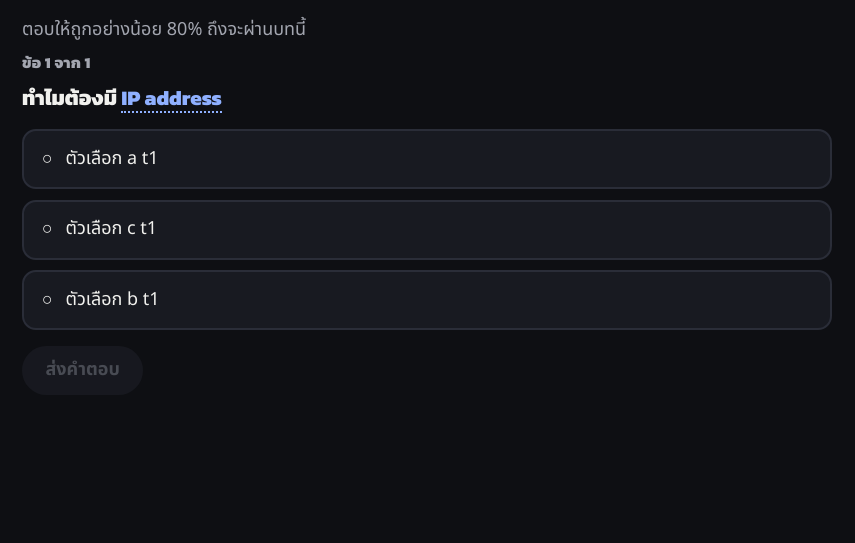
Scenario: QuizView termIds › คำศัพท์ในคำถาม th และคำอธิบาย กดดูความหมายได้
This screenshot has width=855, height=543.
Expected: the button "IP address" is shown, [121, 85, 222, 113]
Click the button "○ ตัวเลือก b t1": (113, 299) [22, 270, 832, 330]
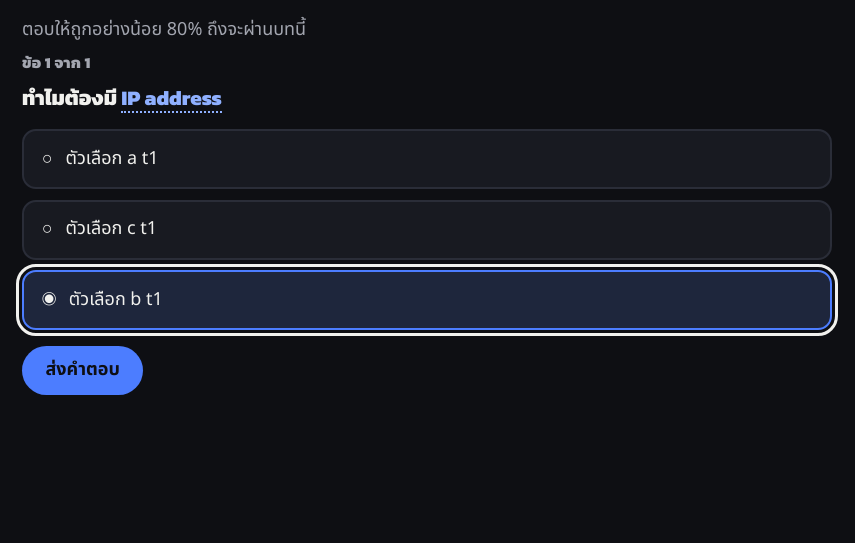
Click the button "ส่งคำตอบ": (83, 371) [22, 346, 143, 395]
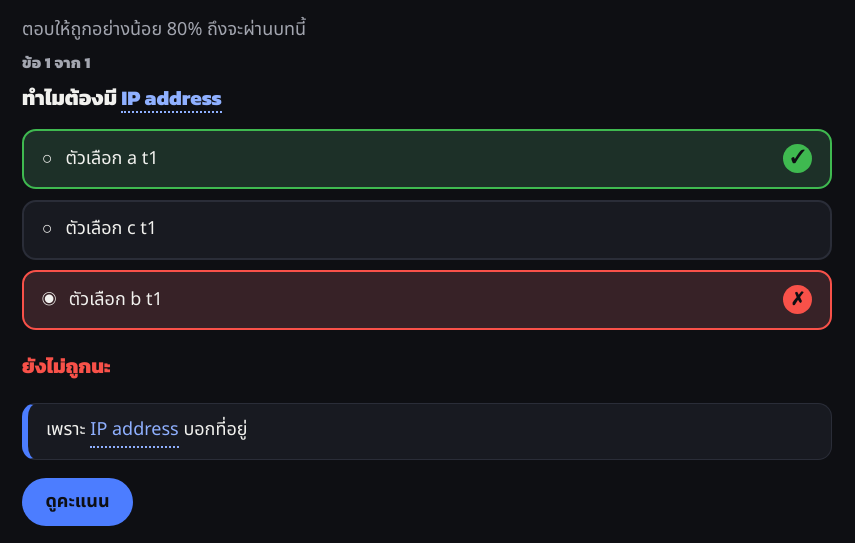
Expected: the number of buttons "IP address" is 2, [121, 85, 222, 113]; [90, 415, 179, 448]
